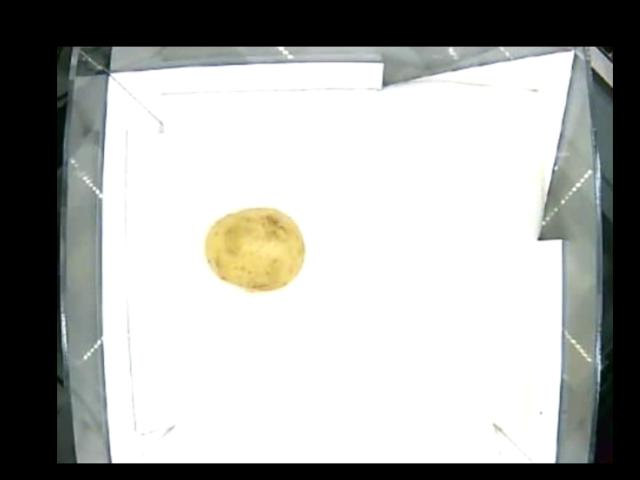Potato: (201, 206, 304, 290)
